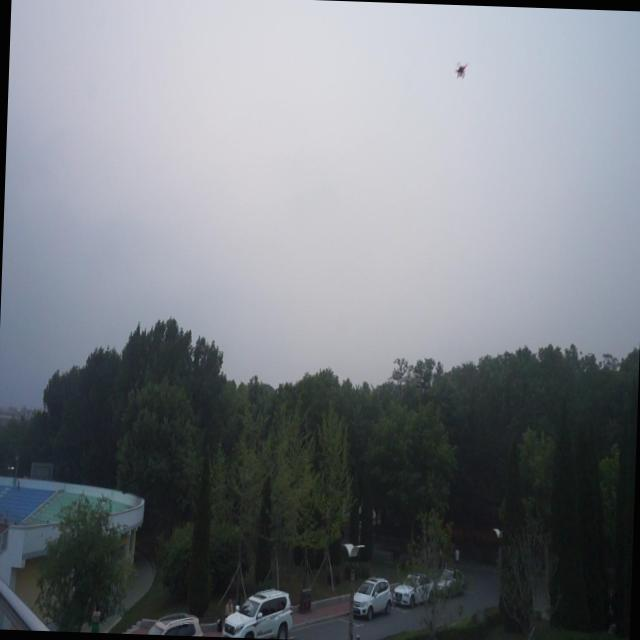drone: (451, 55, 469, 85)
